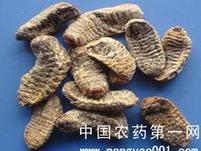grub: (140, 96, 195, 148)
